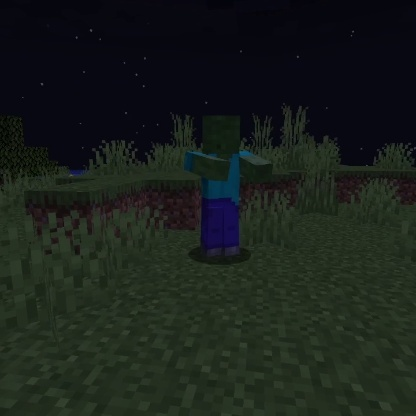zombie: (179, 111, 277, 263)
